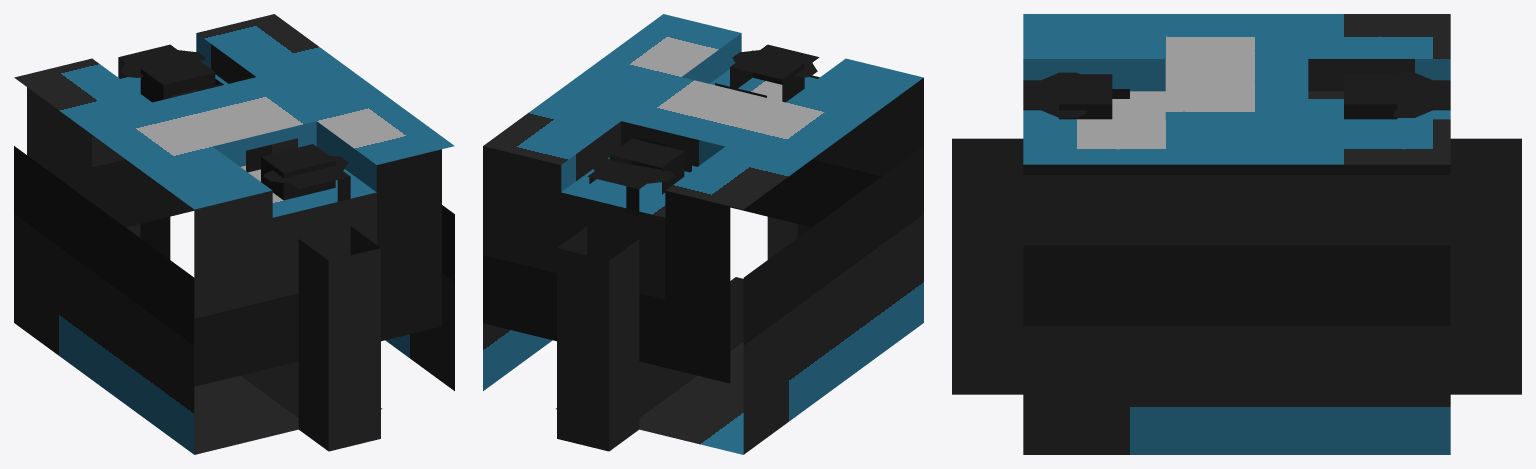
The model's file is battery.obj.
3 views of the same model, side by side, from view 1: azimuth 30°, elevation 25°; view 2: azimuth 150°, elevation 25°; view 3: azimuth 270°, elevation 25° (orthographic). The views are drawn at different scales.
Parts seen in each view (by area): view 1: Battery_Cube; view 2: Battery_Cube; view 3: Battery_Cube.
Boxes of the visible parts, bbox=[...] form: Battery_Cube: bbox=[14, 14, 454, 454]; Battery_Cube: bbox=[483, 14, 923, 454]; Battery_Cube: bbox=[952, 14, 1521, 454].
Size of the model in its own units: 0.625 by 0.5625 by 1.
